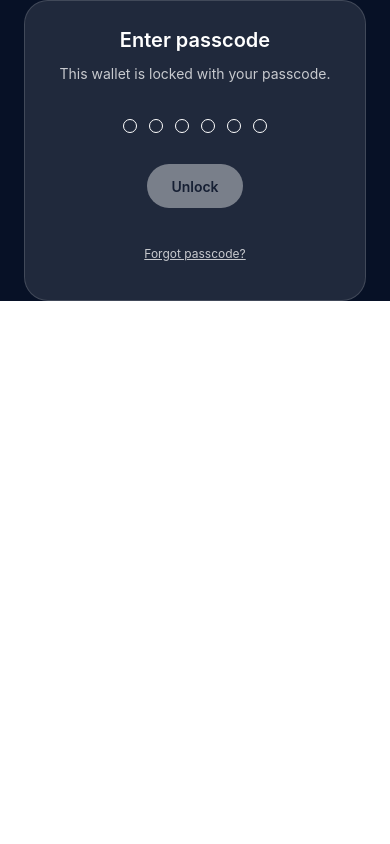
lock screen (unlock flow) › forgot passcode: with nothing unsent but the cloud history copy not readable, delete needs the second box too, and nothing more
Click the button "Forgot passcode?". click: coordinates (195, 254)
box: [144, 232, 246, 276]
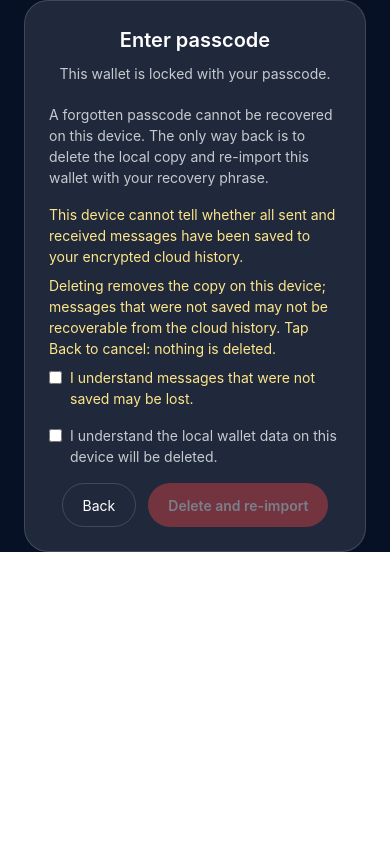
Result: the button "Delete and re-import" is disabled at [148, 483, 328, 527]
Result: the number of checkboxes is 2
Click the checkbox labelled "I understand messages that were not saved may be lost.". click: coordinates (56, 378)
box: [49, 371, 62, 384]
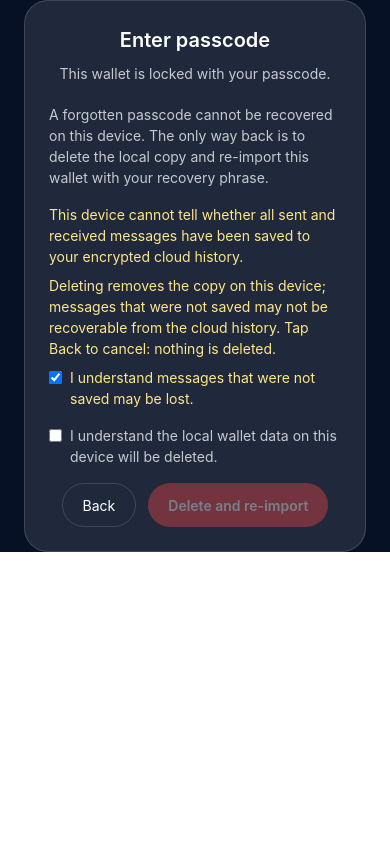
Result: the button "Delete and re-import" is disabled at [148, 483, 328, 527]
Click the 2nd checkbox. click: coordinates (56, 436)
box: [49, 429, 62, 442]
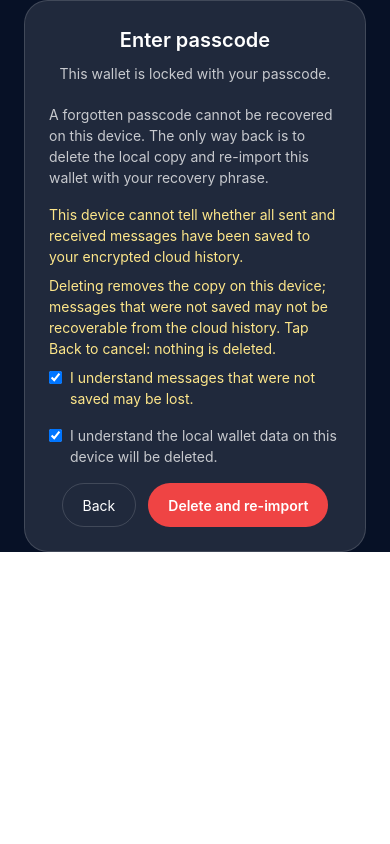
Result: the button "Delete and re-import" is enabled at [148, 483, 328, 527]
